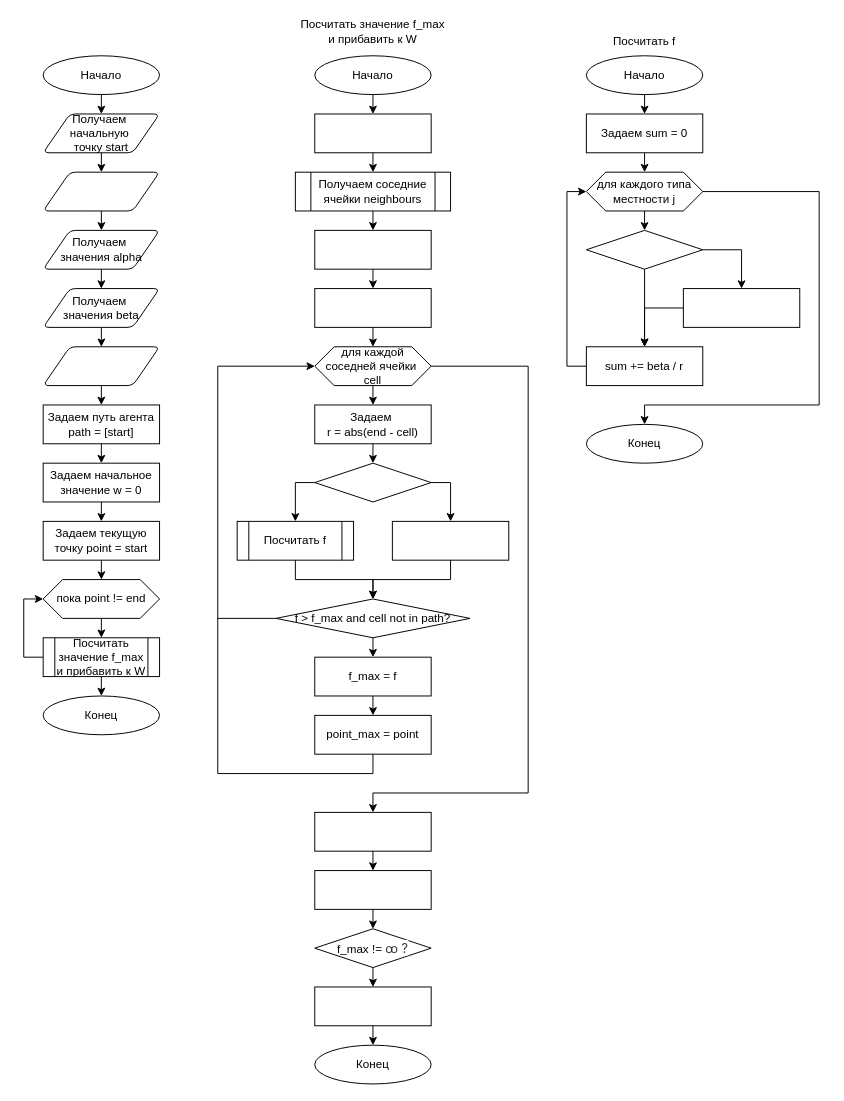
Some shapes in this 844 by 1101 pixel diagram are drawn without their labels. Each missing label, with the box of its shape:
path += point_max: (314, 811, 431, 851)
point = point_max: (314, 870, 431, 909)
r != 0?: (314, 462, 431, 502)
sum += alpha[j]: (682, 288, 800, 327)
t == j?: (585, 229, 703, 269)
w += f_max: (314, 986, 431, 1026)
Задаем f = ꝏ: (391, 520, 509, 560)
Задаем начальное значение f_max = - ꝏ: (314, 229, 431, 269)
Задаем начальное значение point_max = None: (314, 288, 431, 327)
Получаем карту местности map: (42, 346, 160, 386)
Получаем конечную точку end: (42, 171, 160, 211)
Получаем тип местности t = map[point]: (314, 113, 431, 153)
